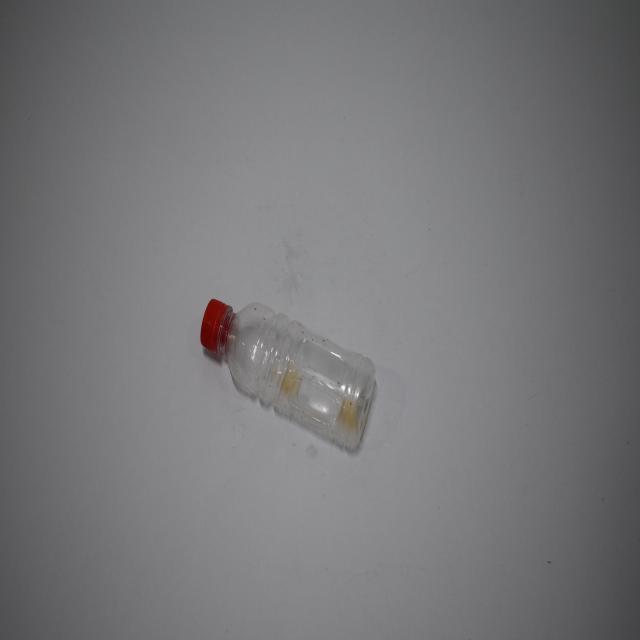empty: (201, 300, 375, 449)
